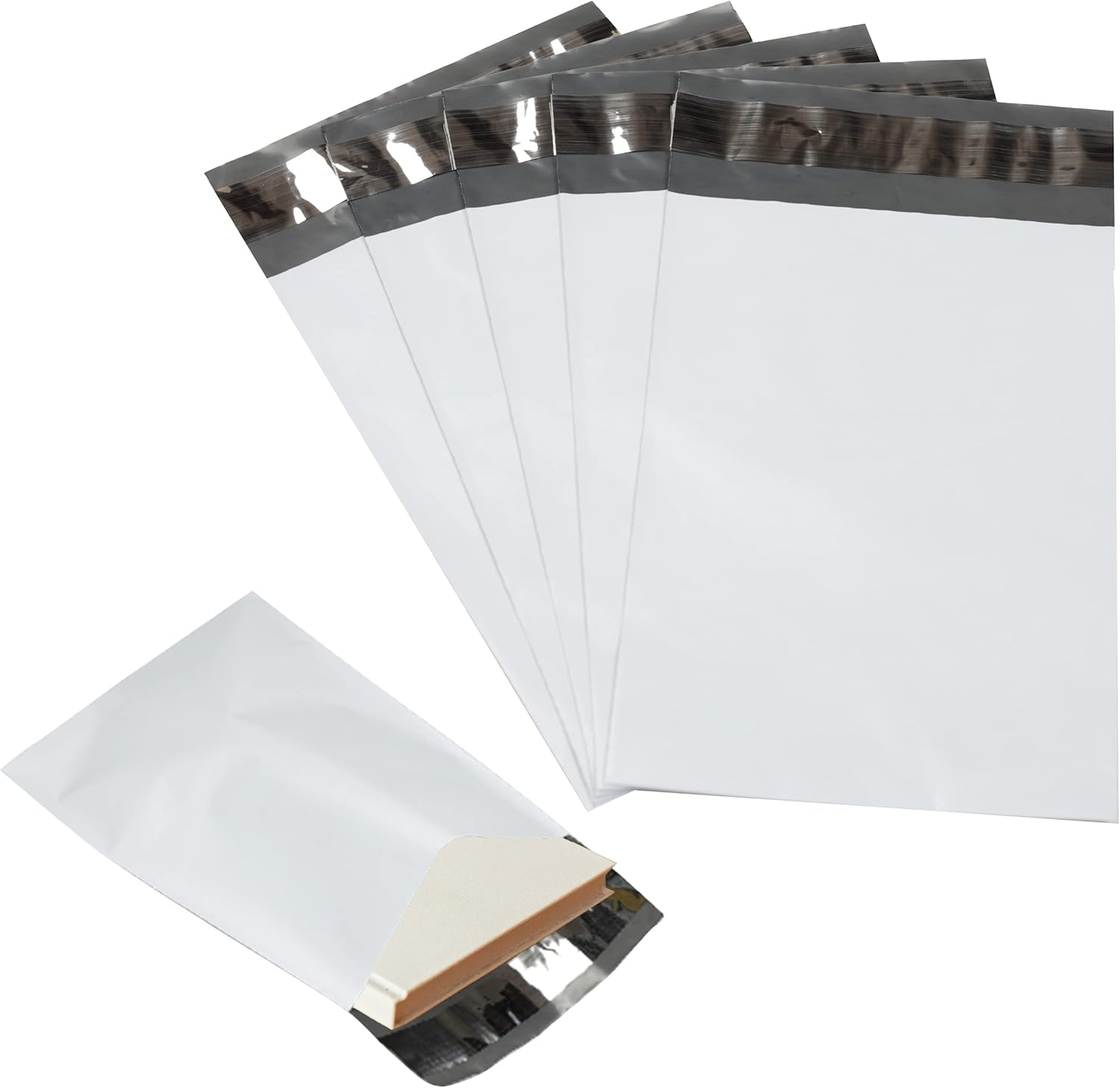Parcel: (208, 4, 1116, 819), (4, 595, 663, 1085)
